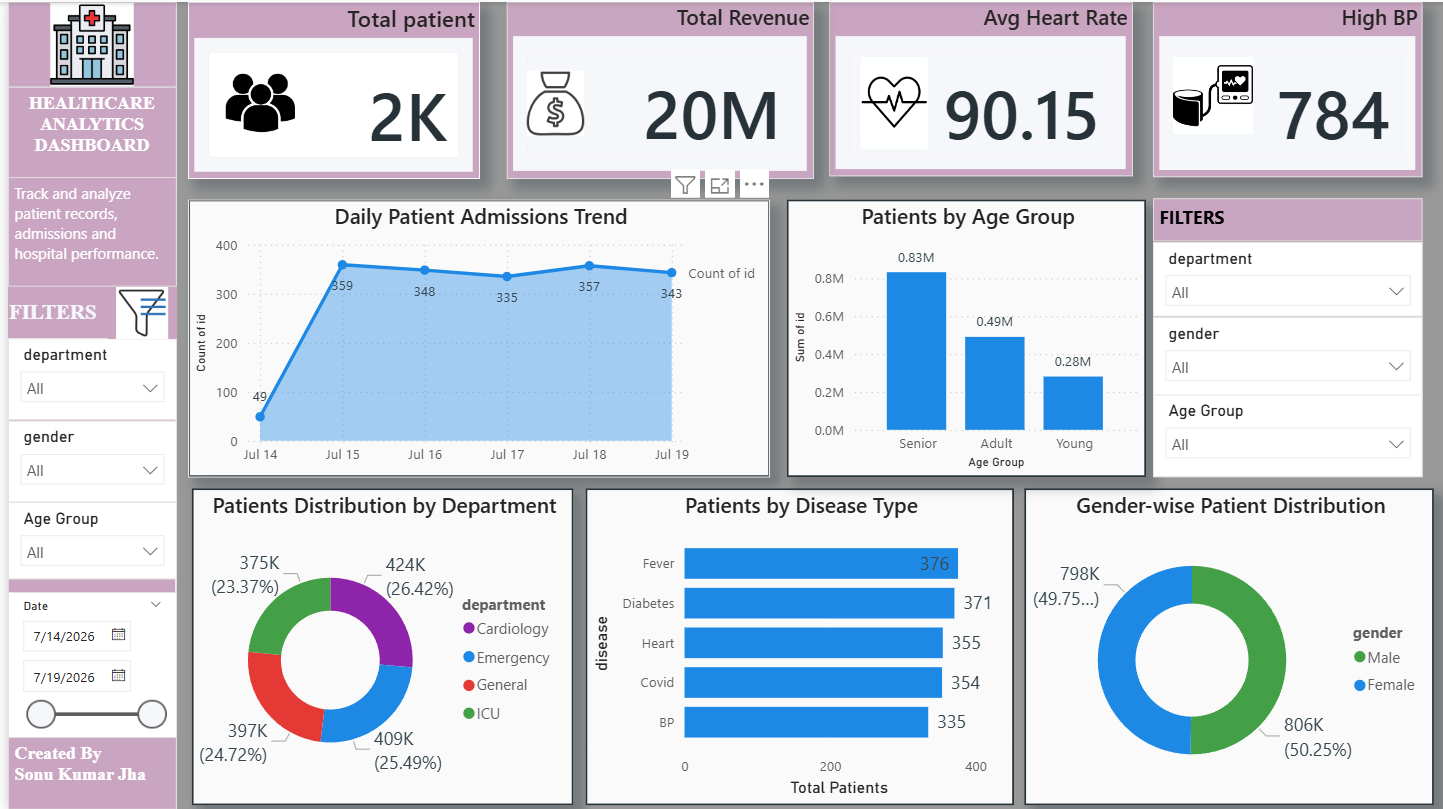

Layout of this report page (visuals, bound fields, positions):
{"tool":"powerbi","page":{"name":"Page 1","canvas":[1280,720],"ordinal":0},"visuals":[{"type":"cardVisual","title":"Total patient ","fields":{"Data":["patient_data.Total Patients"]},"box":[160,0,260,157.5],"z":0},{"type":"cardVisual","title":"Avg Heart Rate","fields":{"Data":["patient_data.Avg HR"]},"box":[731.2,0,270,155],"z":1000},{"type":"cardVisual","title":"High BP","fields":{"Data":["patient_data.High BP"]},"box":[1020,0,240,156.2],"z":2000},{"type":"cardVisual","title":"Total Revenue","fields":{"Data":["patient_data.Total Revenue"]},"box":[443.8,0,273.8,157.5],"z":3000},{"type":"lineChart","title":"Daily Patient Admissions Trend","fields":{"Y":["CountNonNull(patient_data.id)"],"Category":["patient_data.Date Only"]},"box":[160,176.2,518.8,247.5],"z":4000},{"type":"donutChart","title":"Patients Distribution by Department","fields":{"Category":["patient_data.department"],"Y":["Sum(patient_data.id)"]},"box":[163.8,432.5,340,282.5],"z":5000},{"type":"clusteredBarChart","title":"Patients by Disease Type","fields":{"Y":["patient_data.Total Patients"],"Category":["patient_data.disease"]},"box":[513.8,432.5,381.2,282.5],"z":6000},{"type":"donutChart","title":"Gender-wise Patient Distribution","fields":{"Category":["patient_data.gender"],"Y":["Sum(patient_data.id)"]},"box":[905,432.5,365,282.5],"z":7000},{"type":"columnChart","title":"Patients by Age Group","fields":{"Category":["patient_data.Age Group"],"Y":["Sum(patient_data.id)"]},"box":[693.8,176.2,320,247.5],"z":8000},{"type":"shape","box":[0,2.5,150,717.5],"z":8001},{"type":"textbox","box":[0,76.2,150,81.2],"z":8002},{"type":"image","box":[0,0,150,76.2],"z":8003},{"type":"textbox","box":[0,156.2,150,97.5],"z":8004},{"type":"shape","box":[0,253.8,150,46.2],"z":8005},{"type":"image","box":[180,58.8,88.8,61.2],"z":8006},{"type":"image","box":[462.5,61.2,51.2,58.8],"z":8007},{"type":"image","box":[1037.5,48.8,71.2,68.8],"z":8008},{"type":"image","box":[758.8,48.8,60,81.2],"z":8009},{"type":"slicer","fields":{"Values":["patient_data.department"]},"box":[0,300,150,72.5],"z":8010},{"type":"slicer","fields":{"Values":["patient_data.gender"]},"box":[0,372.5,150,72.5],"z":8011},{"type":"slicer","fields":{"Values":["patient_data.Age Group"]},"box":[0,445,150,68.8],"z":8012},{"type":"slicer","fields":{"Values":["patient_data.admission_date"]},"box":[0,525,150,130],"z":8013},{"type":"image","box":[88.8,253.8,61.2,46.2],"z":8014},{"type":"textbox","box":[0,655,150,65],"z":8015},{"type":"slicer","fields":{"Values":["patient_data.department"]},"box":[1020,213.8,240,66.2],"z":8016},{"type":"slicer","fields":{"Values":["patient_data.gender"]},"box":[1020,280,240,70],"z":8017},{"type":"slicer","fields":{"Values":["patient_data.Age Group"]},"box":[1020,350,240,73.8],"z":8018},{"type":"textbox","box":[1020,175,240,38.8],"z":8019}]}

Visuals, with their boxes in screenshot pixels (x1, y1, x2, y2), scaled from the page's 1280x720 canvas onto the 1443x809 screenshot:
"Total patient " cardVisual: l=180, t=0, r=473, b=177
"Avg Heart Rate" cardVisual: l=824, t=0, r=1129, b=174
"High BP" cardVisual: l=1150, t=0, r=1420, b=176
"Total Revenue" cardVisual: l=500, t=0, r=809, b=177
"Daily Patient Admissions Trend" lineChart: l=180, t=198, r=765, b=476
"Patients Distribution by Department" donutChart: l=185, t=486, r=568, b=803
"Patients by Disease Type" clusteredBarChart: l=579, t=486, r=1009, b=803
"Gender-wise Patient Distribution" donutChart: l=1020, t=486, r=1432, b=803
"Patients by Age Group" columnChart: l=782, t=198, r=1143, b=476
shape: l=0, t=3, r=169, b=808
textbox: l=0, t=86, r=169, b=177
image: l=0, t=0, r=169, b=86
textbox: l=0, t=176, r=169, b=285
shape: l=0, t=285, r=169, b=337
image: l=203, t=66, r=303, b=135
image: l=521, t=69, r=579, b=135
image: l=1170, t=55, r=1250, b=132
image: l=855, t=55, r=923, b=146
slicer - patient_data.department: l=0, t=337, r=169, b=419
slicer - patient_data.gender: l=0, t=419, r=169, b=500
slicer - patient_data.Age Group: l=0, t=500, r=169, b=577
slicer - patient_data.admission_date: l=0, t=590, r=169, b=736
image: l=100, t=285, r=169, b=337
textbox: l=0, t=736, r=169, b=808
slicer - patient_data.department: l=1150, t=240, r=1420, b=315
slicer - patient_data.gender: l=1150, t=315, r=1420, b=393
slicer - patient_data.Age Group: l=1150, t=393, r=1420, b=476
textbox: l=1150, t=197, r=1420, b=240
